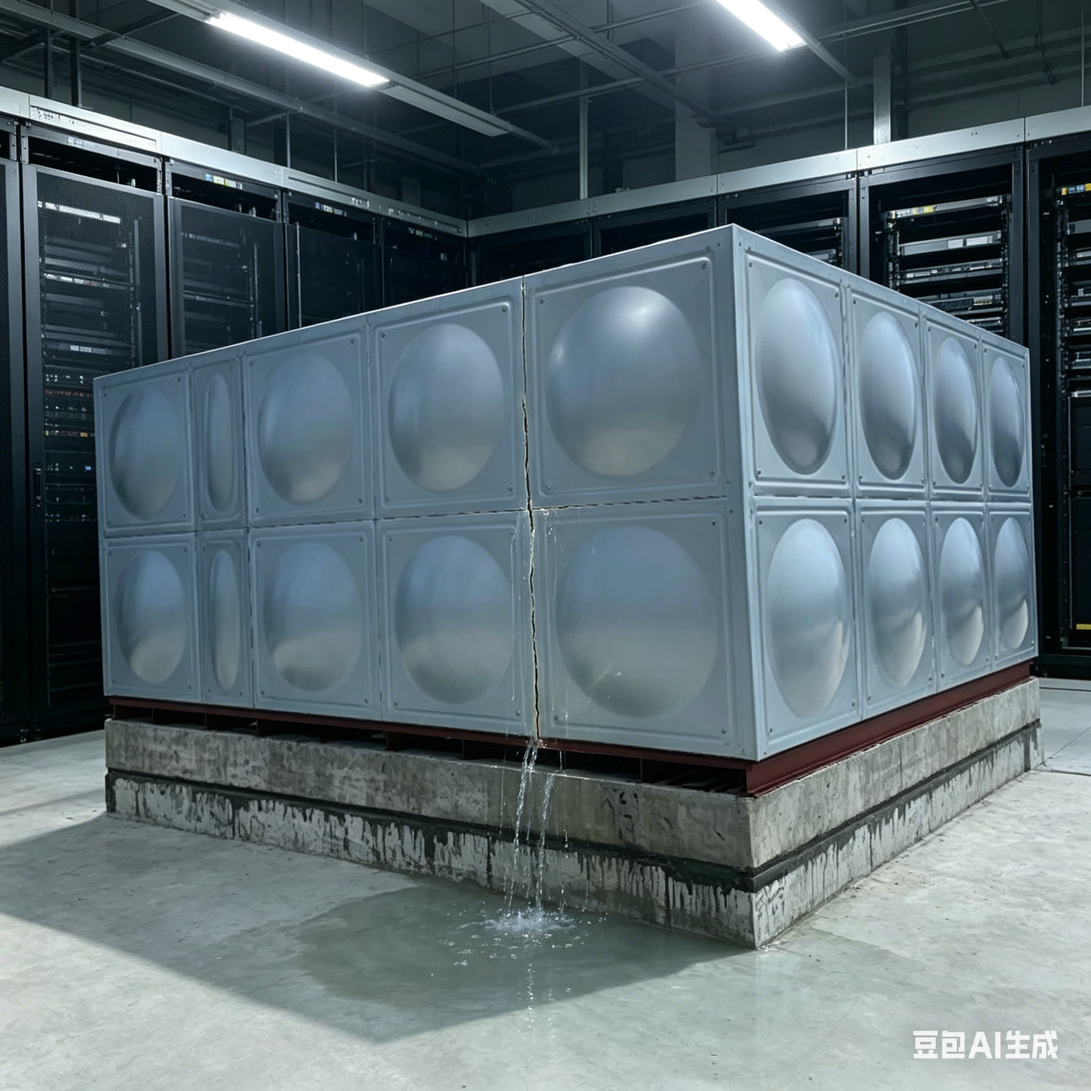Leakage: (469, 706, 586, 995)
